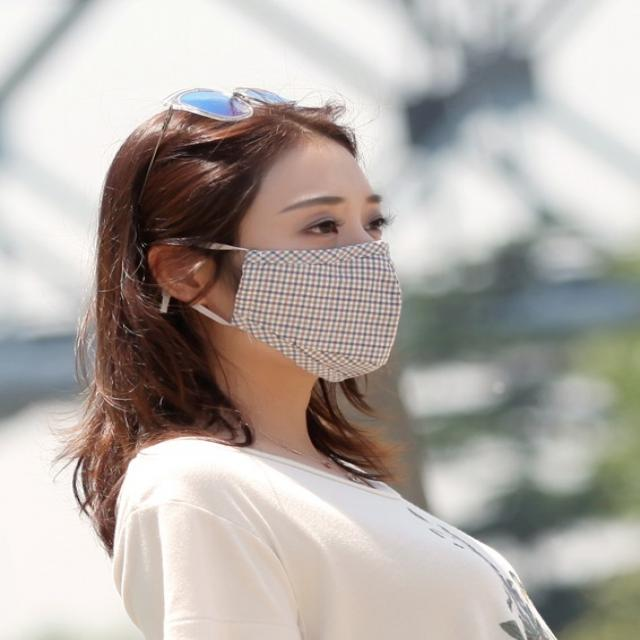mask: (229, 134, 393, 370)
